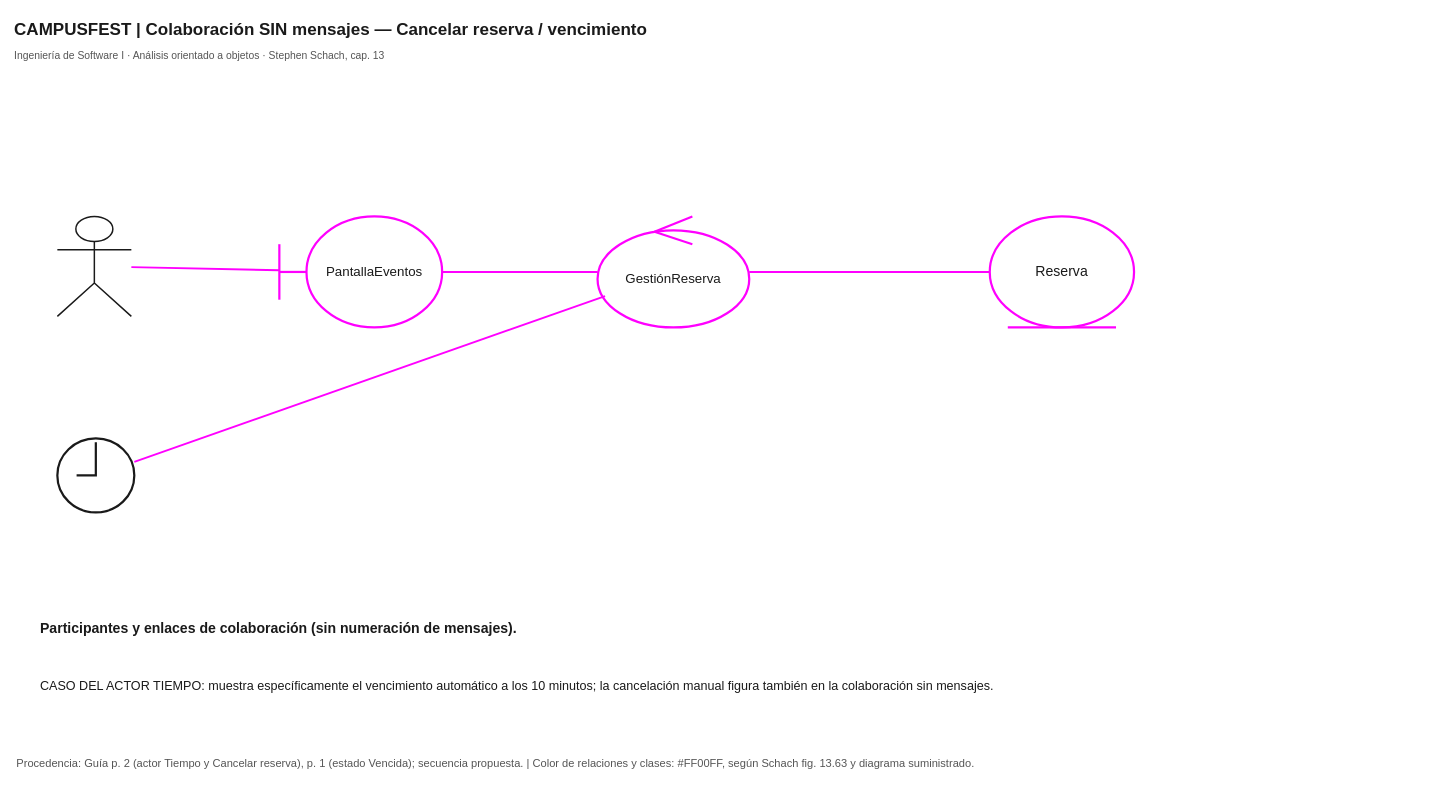
The diagram is 1442 pixels wide and 802 high, and some of its shapes have lost their labels. Each missing label, with the centre of its shape:
"10 minutos" goes at (x=95, y=475).
"Estudiante" goes at (x=94, y=266).
